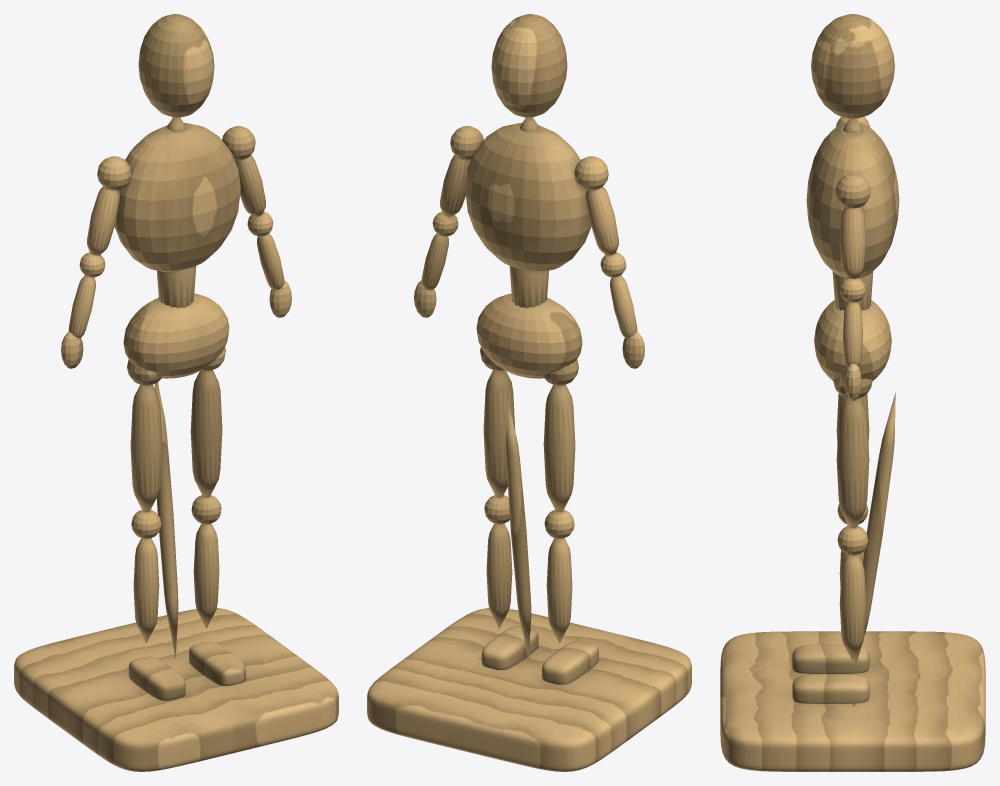
Rendered from standing.glb.
The picture shows the model from 3 angles, left to right: view 1: azimuth 30°, elevation 25°; view 2: azimuth 150°, elevation 25°; view 3: azimuth 270°, elevation 25°; orthographic projection.
Parts seen in each view (by area): view 1: mannequin_wood; view 2: mannequin_wood; view 3: mannequin_wood.
Part boxes in pixels (x1,y1,x2,y2): mannequin_wood: [14, 14, 338, 771]; mannequin_wood: [367, 14, 691, 771]; mannequin_wood: [720, 14, 985, 771].
Bounding box in the file's own units: 0.1221 × 0.352 × 0.12.
Materials: 1 (1 with a texture image).
